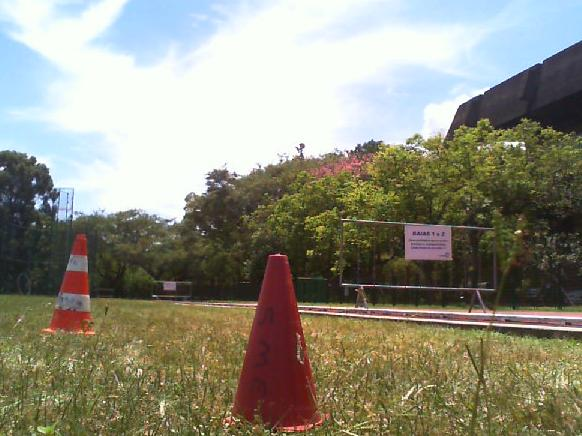0 cone: (230, 255, 329, 431), (42, 233, 96, 334)
